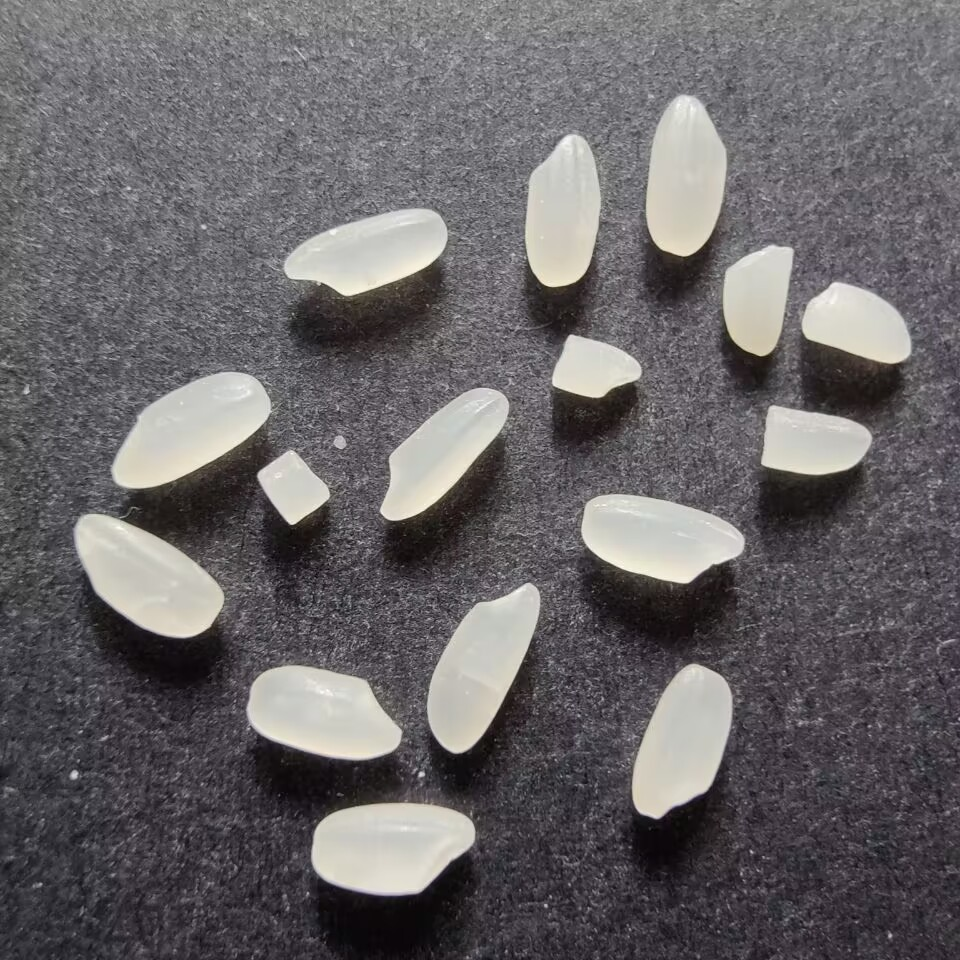broken: (799, 277, 916, 372), (754, 400, 875, 479), (720, 239, 796, 360), (548, 330, 644, 402), (252, 447, 332, 532)
rice: (421, 574, 544, 757), (108, 368, 275, 492), (67, 512, 226, 642), (378, 383, 513, 524), (240, 662, 408, 765), (631, 659, 734, 823), (302, 803, 477, 898), (579, 493, 750, 589), (282, 206, 450, 297), (641, 91, 728, 257), (521, 130, 607, 292)
